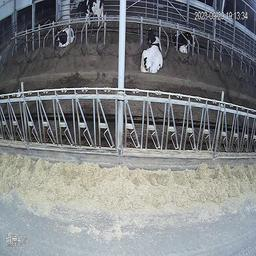cow: (140, 26, 163, 76), (75, 0, 106, 30), (172, 26, 195, 57), (52, 24, 76, 49)
